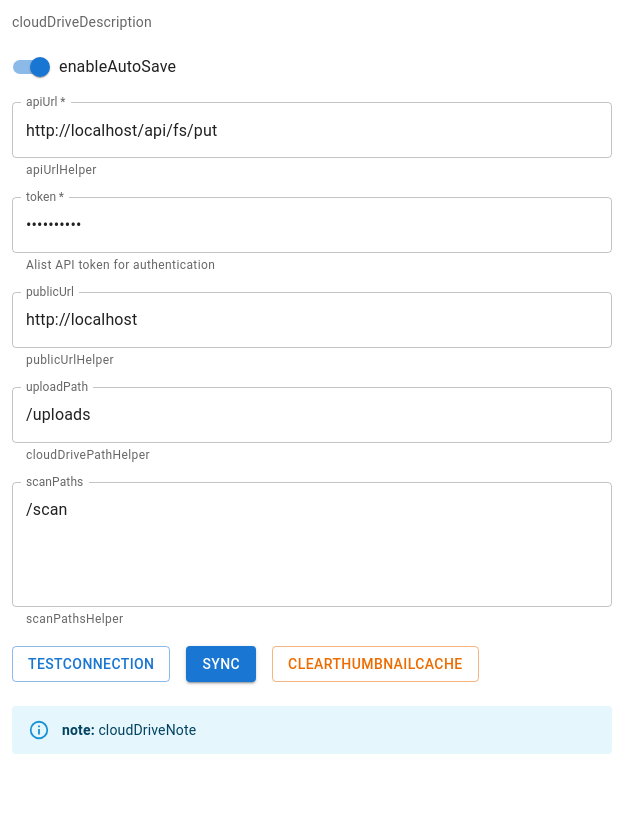
CloudDriveSettings › should handle test connection success
The width and height of the screenshot is (629, 835).
Click the button "testConnection": (91, 664) left=12, top=646, right=170, bottom=682
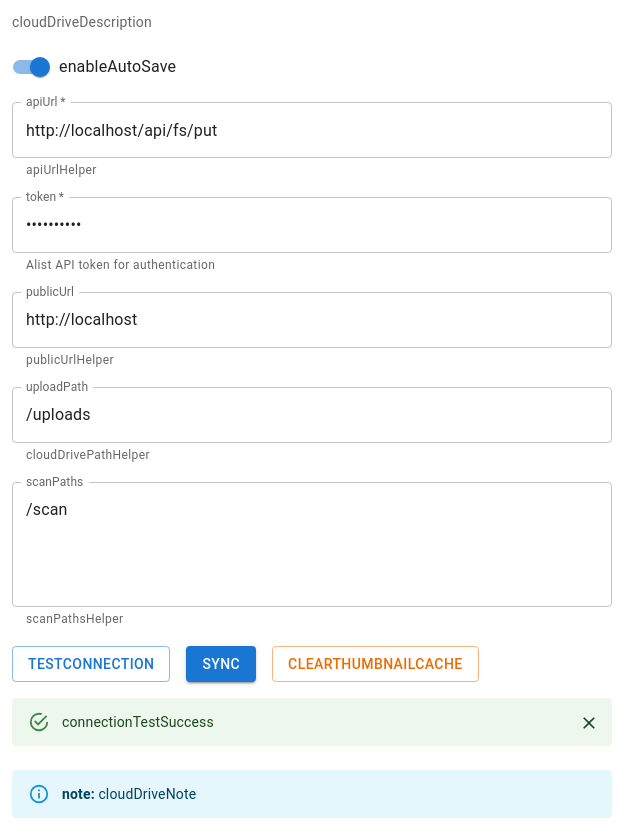
Now the text "connectionTestSuccess" is shown, box left=62, top=714, right=214, bottom=730
